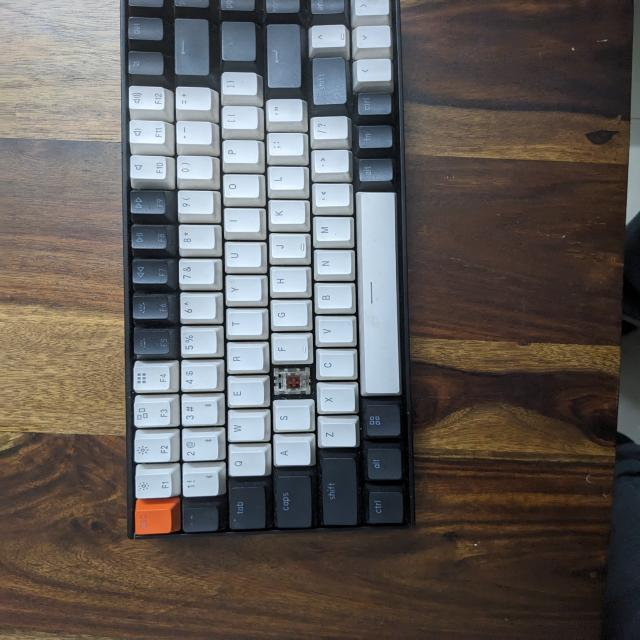C: (270, 366, 314, 398)
